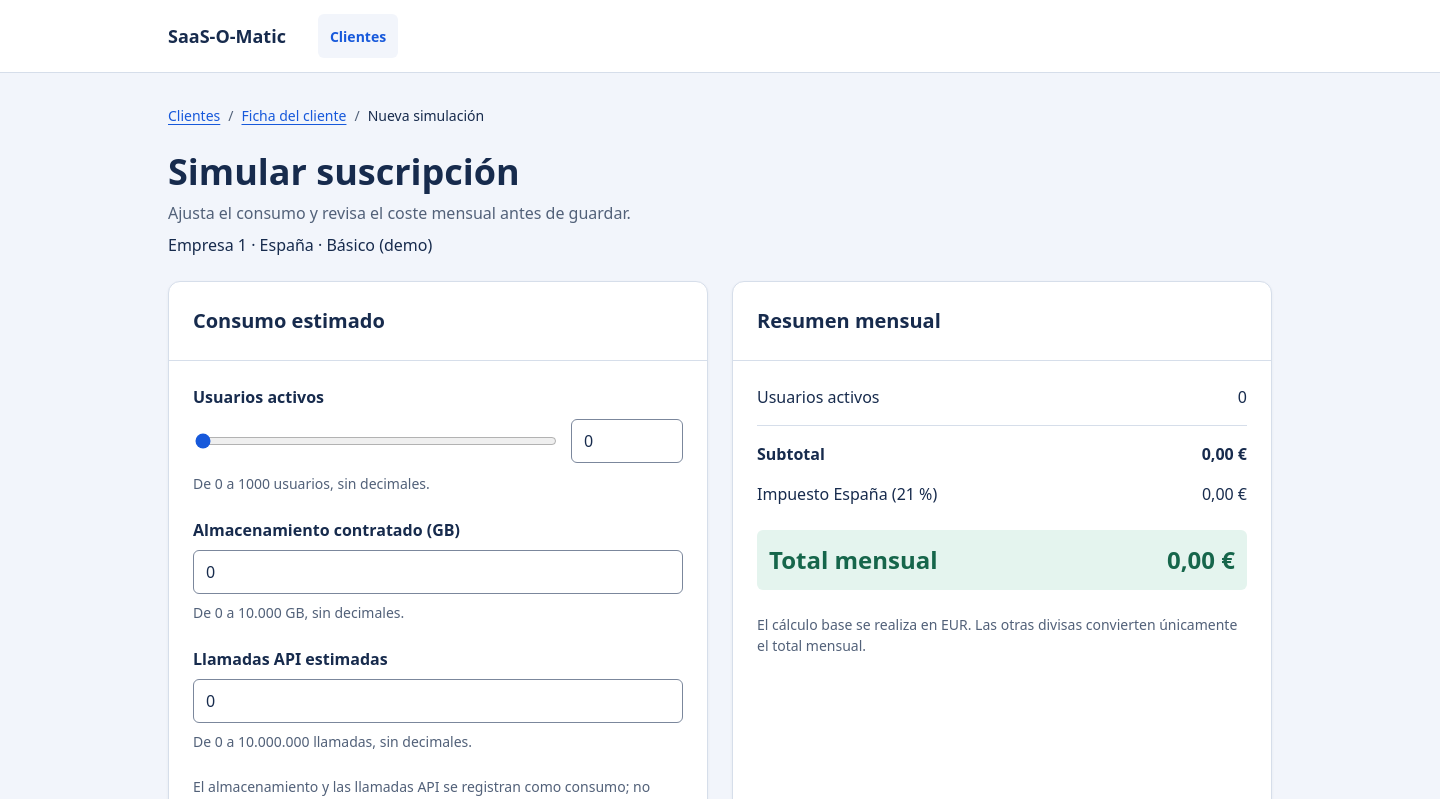
Test: WEB-FX-008 falls back to EUR for malformed conversion data
The width and height of the screenshot is (1440, 799).
Replace the text in the field labelled "Usuarios activos" with "15" at {"x": 627, "y": 441}, box top-left (571, 419), bottom-right (683, 463)
(page scrolled)
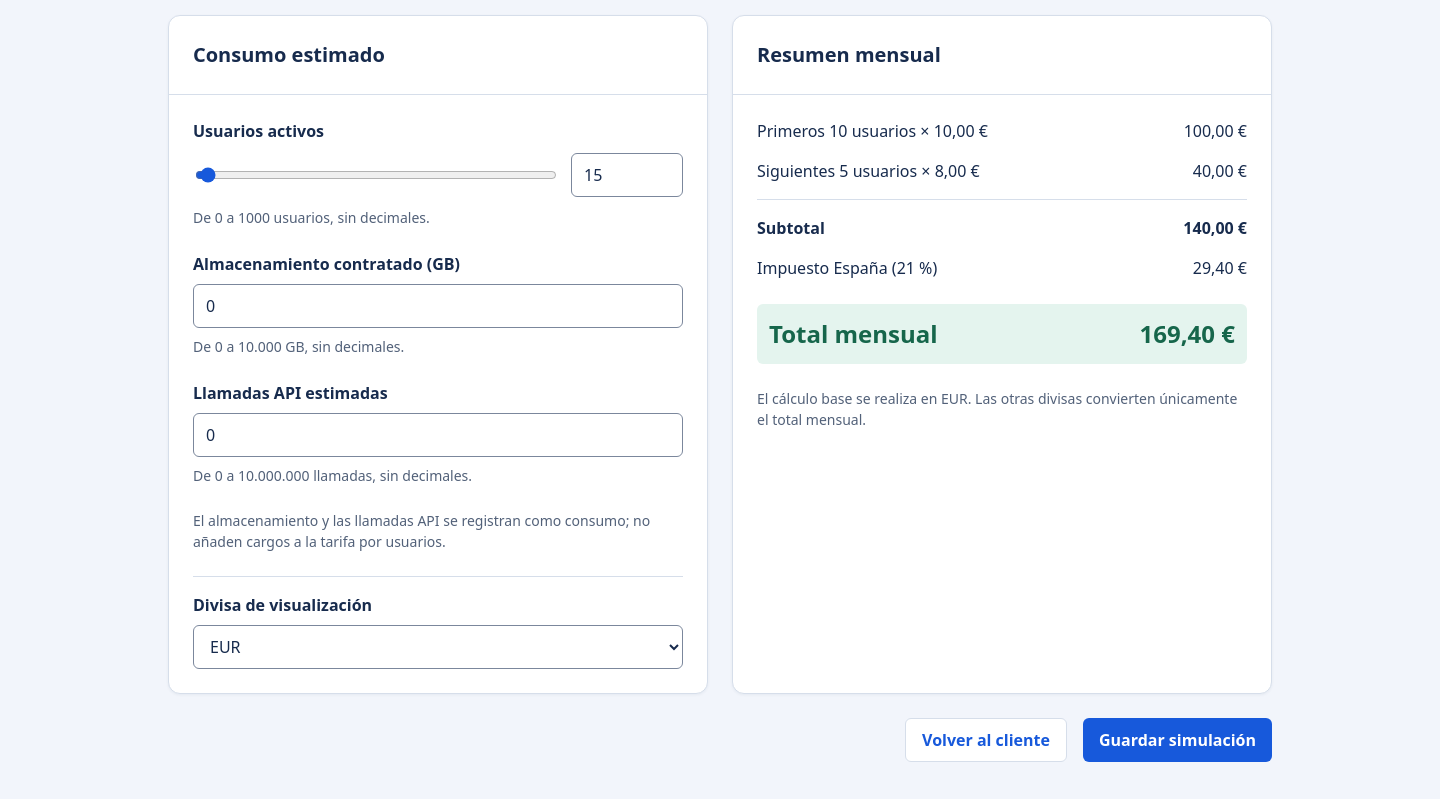
Select "USD" in the dropdown at {"x": 438, "y": 647}, box top-left (193, 625), bottom-right (683, 669)
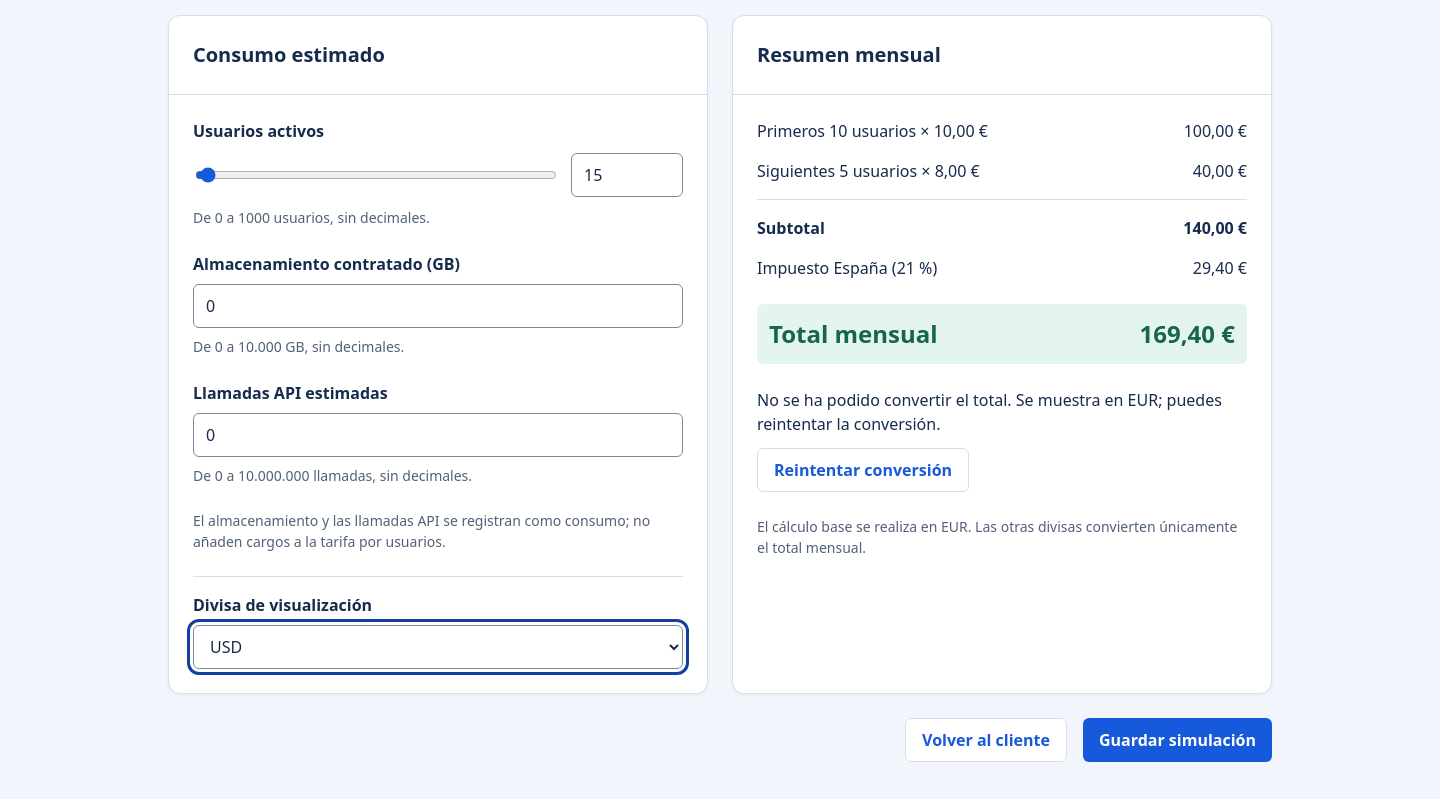
Now the text named "Total mensual" shows "169,40", box top-left (1140, 317), bottom-right (1235, 350)
Now the message shows "EUR", box top-left (757, 389), bottom-right (1222, 435)
